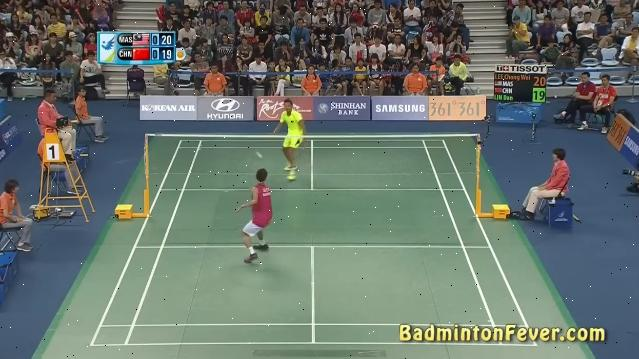Shuttlecock: (252, 150, 264, 159)
